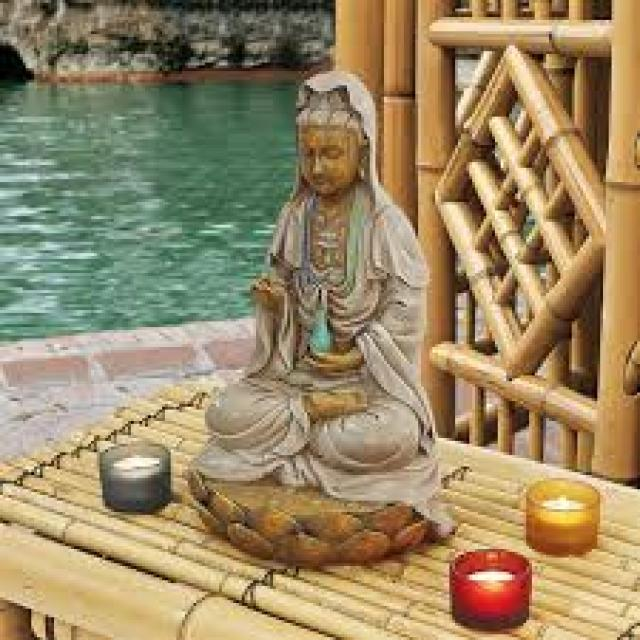Guan Yin: (266, 70, 411, 412)
